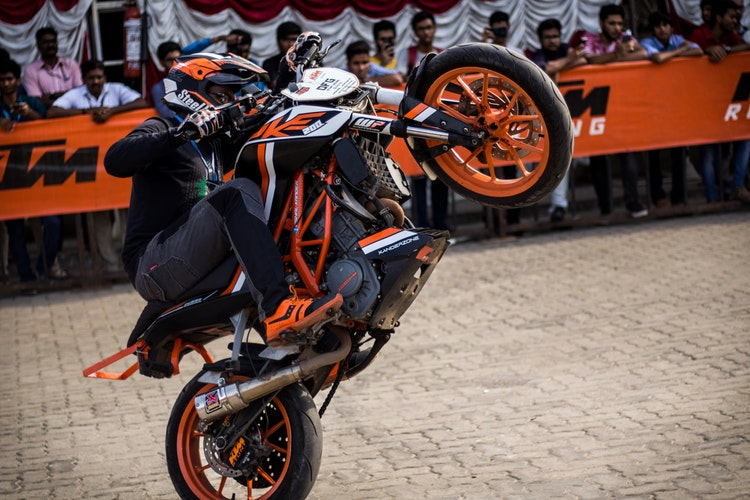helmet: (145, 35, 272, 122)
